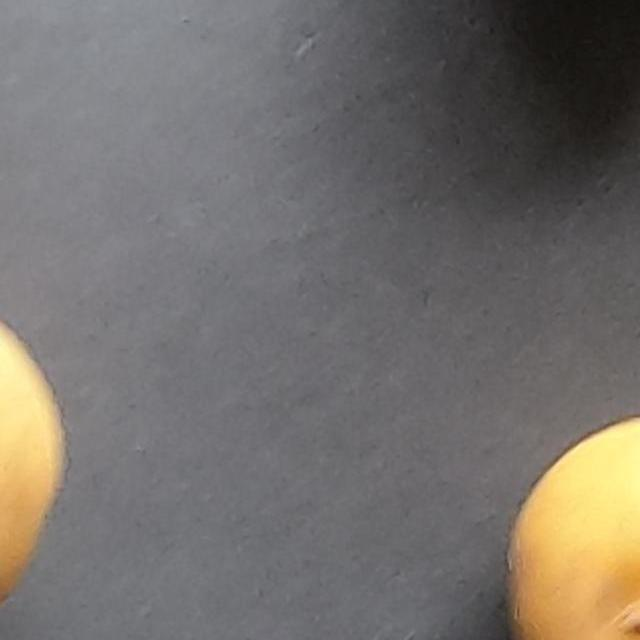potato: (0, 106, 237, 640)
